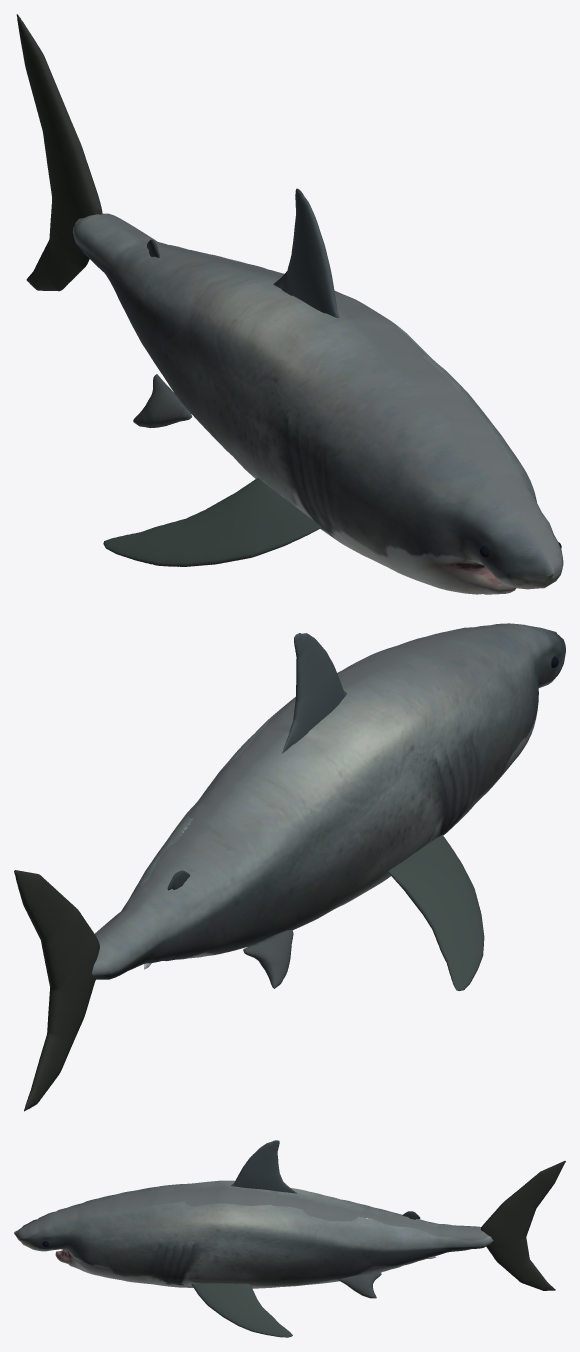
File: mq_tiburon_27.glb
3 views of the same model, one above another, from view 1: azimuth 30°, elevation 25°; view 2: azimuth 150°, elevation 25°; view 3: azimuth 270°, elevation 25° (orthographic). The views are drawn at different scales.
Visible parts, largest first — view 1: node_id125_Material_122_0, node_id125_Material_114_0, node_id125_Material_110_0, node_id125_Material_112_0, node_id125_Material_120_0; view 2: node_id125_Material_122_0, node_id125_Material_110_0, node_id125_Material_114_0, node_id125_Material_112_0, node_id125_Material_120_0; view 3: node_id125_Material_122_0, node_id125_Material_110_0, node_id125_Material_114_0, node_id125_Material_112_0, node_id125_Material_120_0.
Boxes of the visible parts, box(x1,y1,x2,y2) form: node_id125_Material_122_0: box(72, 213, 563, 594); node_id125_Material_114_0: box(103, 478, 321, 566); node_id125_Material_110_0: box(16, 14, 102, 291); node_id125_Material_112_0: box(273, 188, 339, 318); node_id125_Material_120_0: box(133, 374, 192, 428); node_id125_Material_122_0: box(91, 623, 565, 979); node_id125_Material_110_0: box(14, 870, 99, 1111); node_id125_Material_114_0: box(388, 834, 484, 990); node_id125_Material_112_0: box(282, 633, 346, 753); node_id125_Material_120_0: box(243, 929, 293, 988); node_id125_Material_122_0: box(14, 1180, 493, 1288); node_id125_Material_110_0: box(481, 1161, 565, 1290); node_id125_Material_114_0: box(191, 1283, 292, 1337); node_id125_Material_112_0: box(231, 1140, 296, 1193); node_id125_Material_120_0: box(339, 1272, 381, 1298).
Size of the model in its own units: 1.95 by 1.8 by 5.6.
11 materials, 10 textured.
